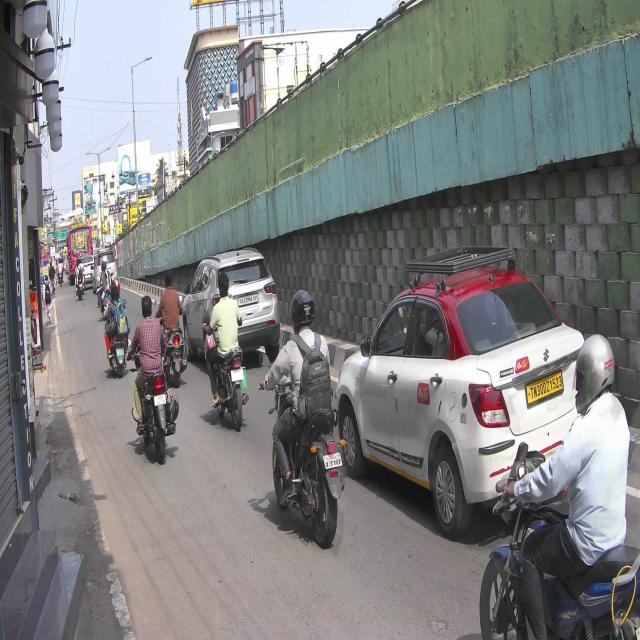single_rider: (479, 333, 640, 640), (260, 288, 345, 550), (128, 291, 174, 464), (202, 269, 248, 432)
